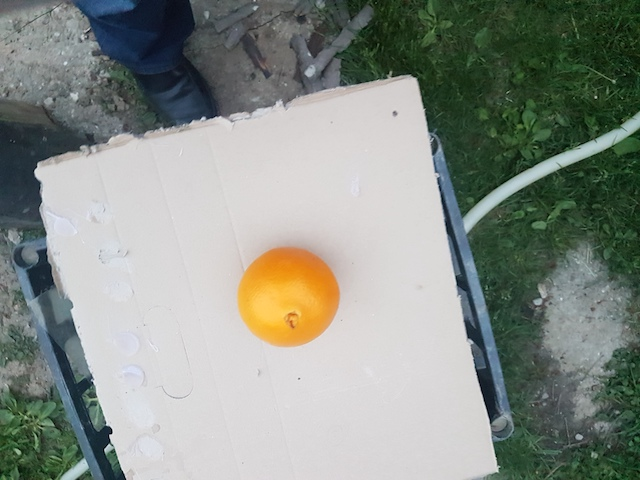orange: (239, 246, 340, 350)
